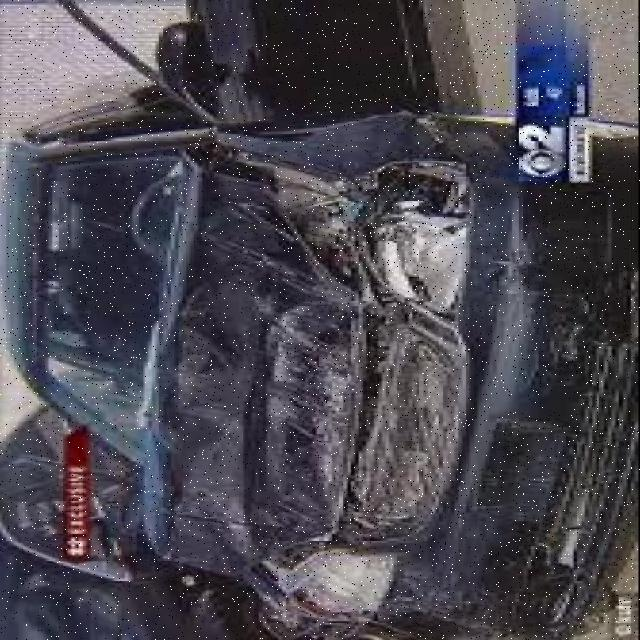damage: (136, 111, 637, 638)
